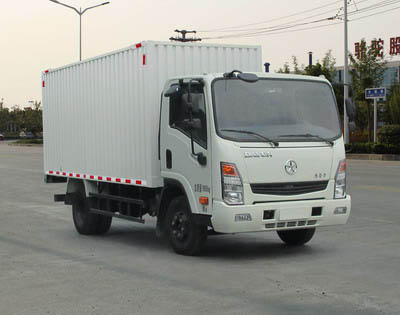smalltruck: (30, 35, 356, 261)
